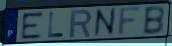B: (142, 5, 166, 36)
E: (21, 11, 45, 41)
F: (117, 5, 144, 38)
L: (47, 11, 65, 39)
N: (93, 6, 117, 39)
R: (69, 9, 94, 39)
